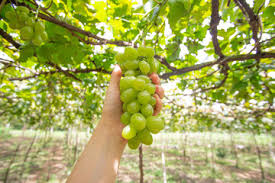grapes: (115, 43, 168, 155)
